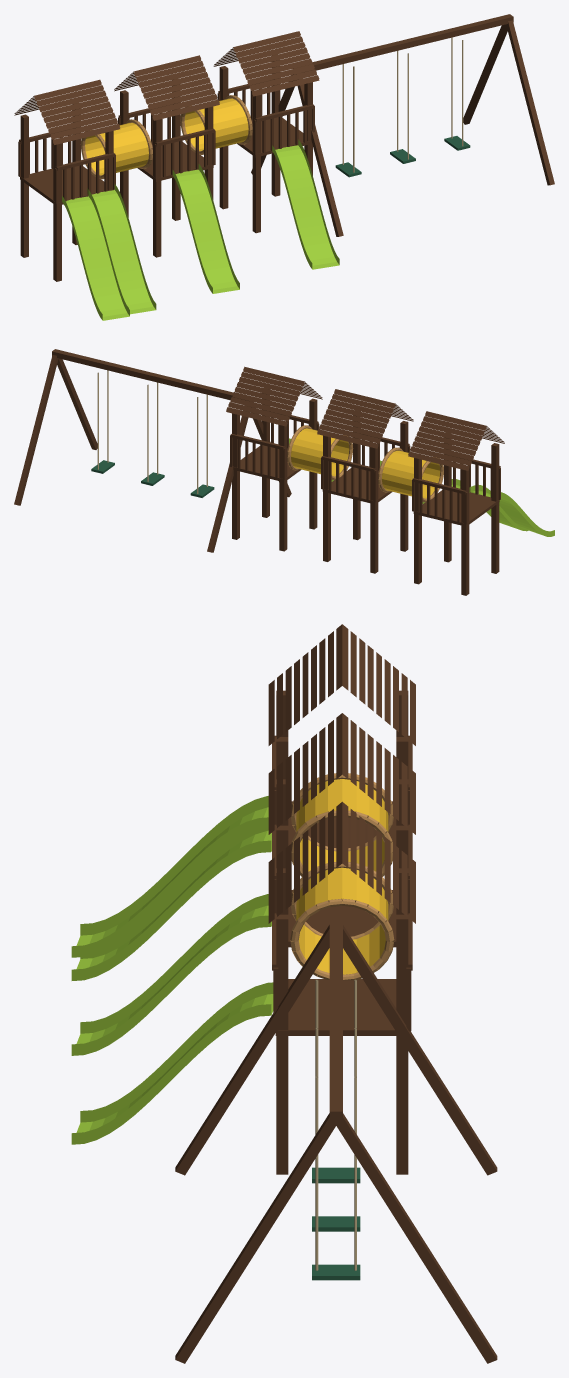
The picture shows the model from 3 angles, top to bottom: view 1: azimuth 30°, elevation 25°; view 2: azimuth 150°, elevation 25°; view 3: azimuth 270°, elevation 25°; orthographic projection. The views are drawn at different scales.
Visible parts, largest first — view 1: SW-E103; view 2: SW-E103; view 3: SW-E103.
Boxes of the visible parts, x1=… form: SW-E103: x1=14, y1=14, x2=554, y2=320; SW-E103: x1=14, y1=349, x2=554, y2=595; SW-E103: x1=71, y1=624, x2=497, y2=1363.
Bounding box in the file's own units: 9.5 × 3.3 × 4.
